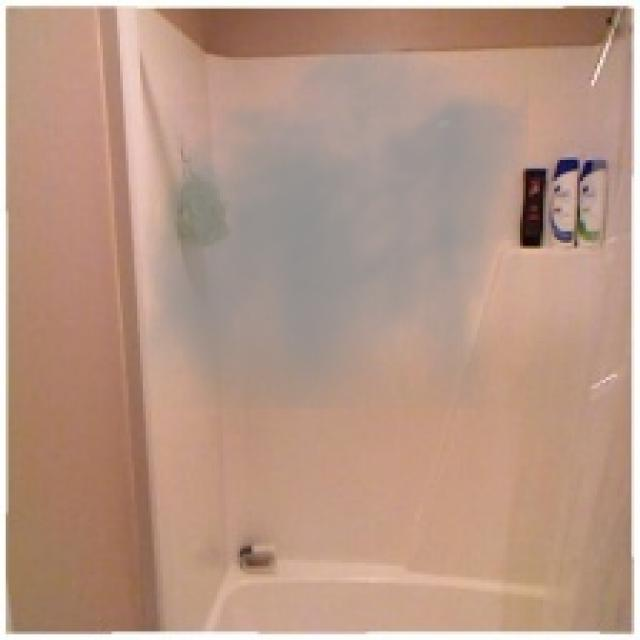smoke: (140, 17, 529, 409)
